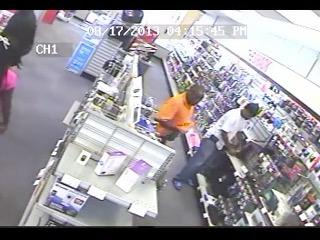shoplifting: (162, 113, 196, 145)
